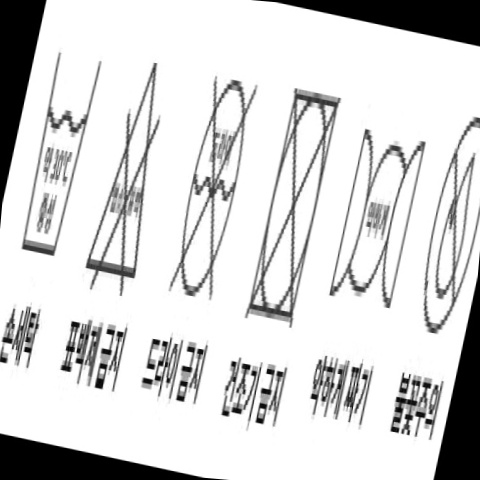30C: (7, 34, 120, 275)
DN_dry_clean: (160, 62, 274, 315)
DN_tumble_dry: (234, 80, 360, 345)
non_chlorine_bleach: (75, 52, 194, 299)
wring: (325, 120, 439, 315)
